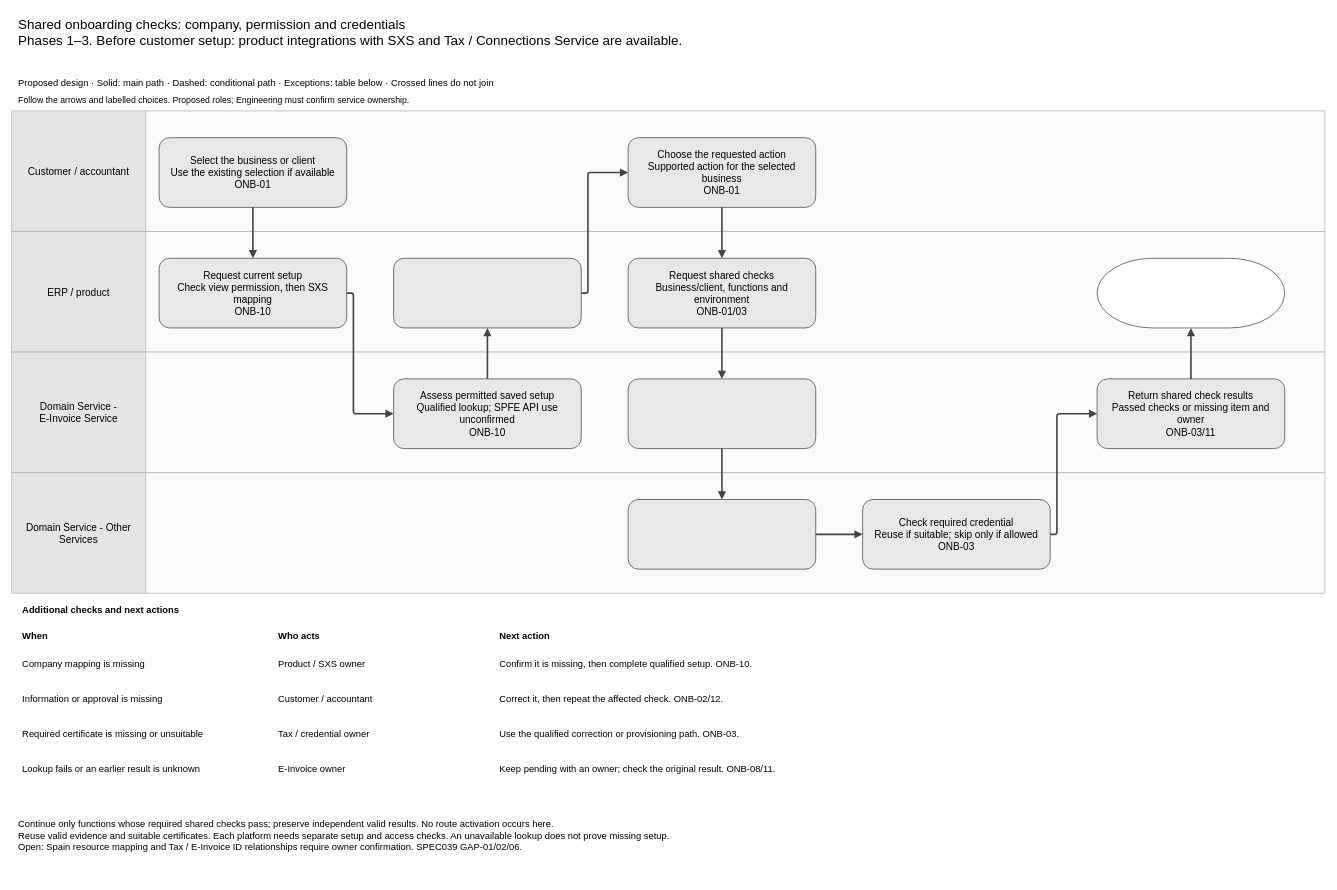
Image size: 1337x890. Some labels were removed from this diagram. Here are the shapes that lost their labels. From the top down, the box of each, then its label:
(393, 258, 581, 328): Show current e-invoicing setup Permitted setup; readiness is separate ONB-10/11
(1096, 258, 1285, 328): Show shared check result Pass: continue public/private setup ONB-11
(627, 378, 816, 449): Coordinate required checks Keep the caller and business distinct ONB-02/03
(627, 499, 816, 569): Check NIF and permission Check business and caller separately ONB-02
